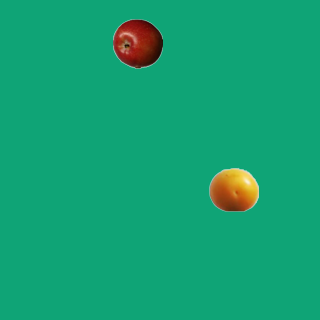Apple Braeburn: (112, 18, 162, 68)
Cherry Wax Yellow: (208, 164, 258, 214)
